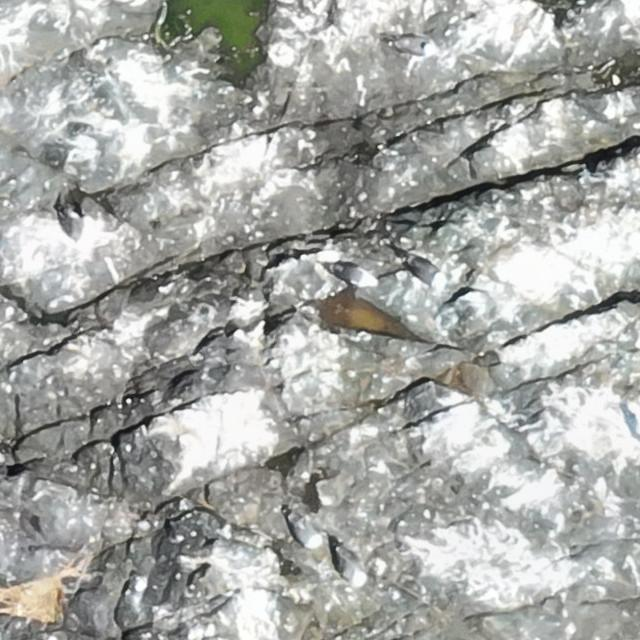umineko: (284, 505, 323, 549), (326, 261, 381, 287), (335, 546, 369, 588), (62, 210, 104, 244), (408, 256, 440, 280), (396, 38, 432, 55)
